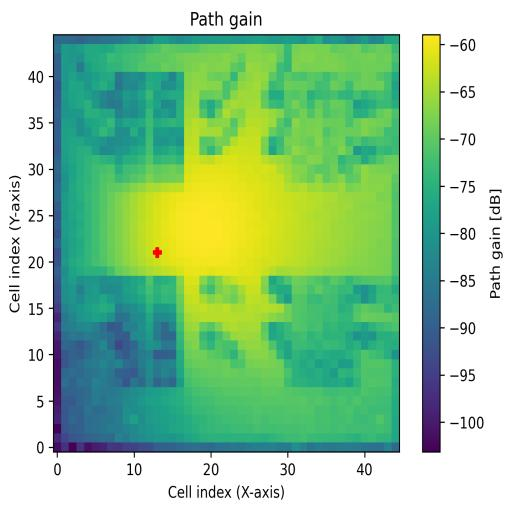Concrete: (285, 74, 361, 184)
Glass: (114, 71, 184, 183)
Metal: (292, 278, 360, 388)
Wood: (114, 276, 184, 388)
